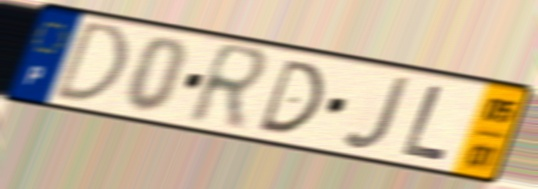0: (122, 33, 191, 117)
D: (48, 18, 130, 106), (253, 56, 326, 137)
J: (340, 74, 415, 153)
L: (398, 81, 453, 164)
R: (183, 39, 274, 136)
